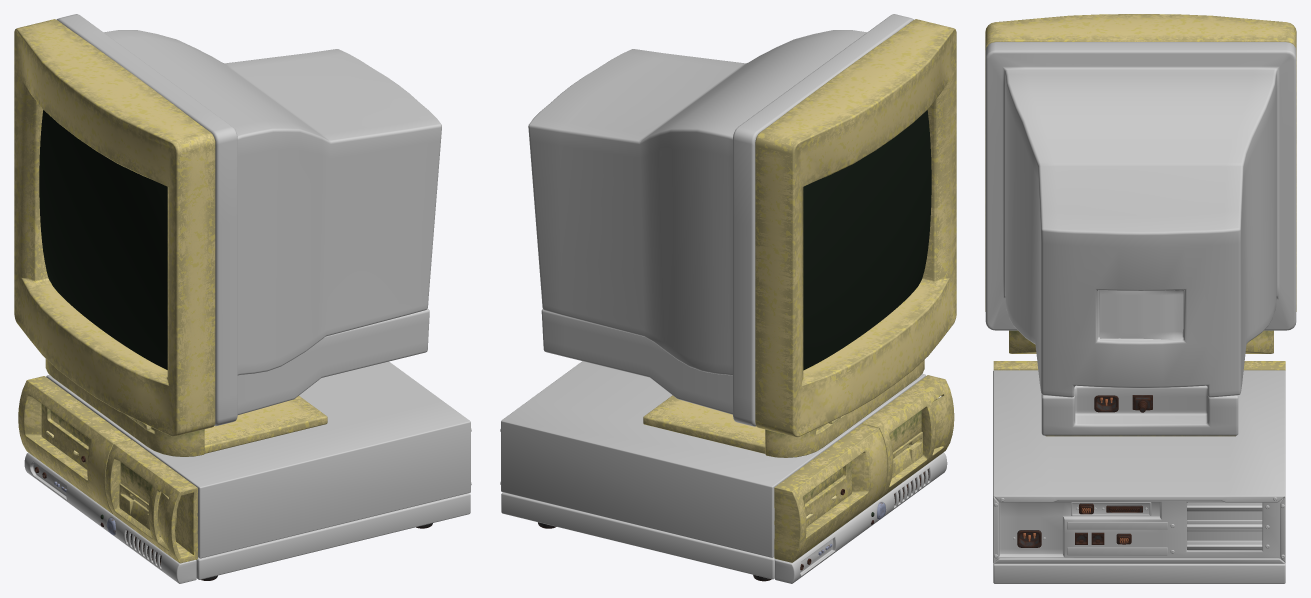
The model's file is old pc.fbx.
The picture shows the model from 3 angles, left to right: view 1: azimuth 30°, elevation 25°; view 2: azimuth 150°, elevation 25°; view 3: azimuth 270°, elevation 25°; orthographic projection. The views are drawn at different scales.
Visible parts, largest first — view 1: monitor, screen frame, case.001, screen, panel 2, stand.001; view 2: monitor, screen frame, case.001, screen, panel 2, stand.001; view 3: monitor, case.001, back plate, screen frame, my decals_001_пп.003, connectors, panel 2.
Part boxes in pixels (<box>): monitor: <box>56,14,441,426</box>; screen frame: <box>14,19,215,456</box>; case.001: <box>24,361,470,583</box>; screen: <box>39,110,167,369</box>; panel 2: <box>18,376,197,563</box>; stand.001: <box>204,396,327,453</box>; monitor: <box>528,14,913,426</box>; screen frame: <box>755,19,956,457</box>; case.001: <box>501,361,947,583</box>; screen: <box>803,110,931,370</box>; panel 2: <box>774,375,954,562</box>; stand.001: <box>643,395,765,453</box>; monitor: <box>985,42,1296,435</box>; case.001: <box>993,370,1285,583</box>; back plate: <box>994,497,1284,560</box>; screen frame: <box>985,14,1296,353</box>; my decals_001_пп.003: <box>1100,290,1183,339</box>; connectors: <box>1017,395,1152,547</box>; panel 2: <box>993,361,1285,370</box>.
Bounding box in the file's own units: 394 × 530 × 345.
